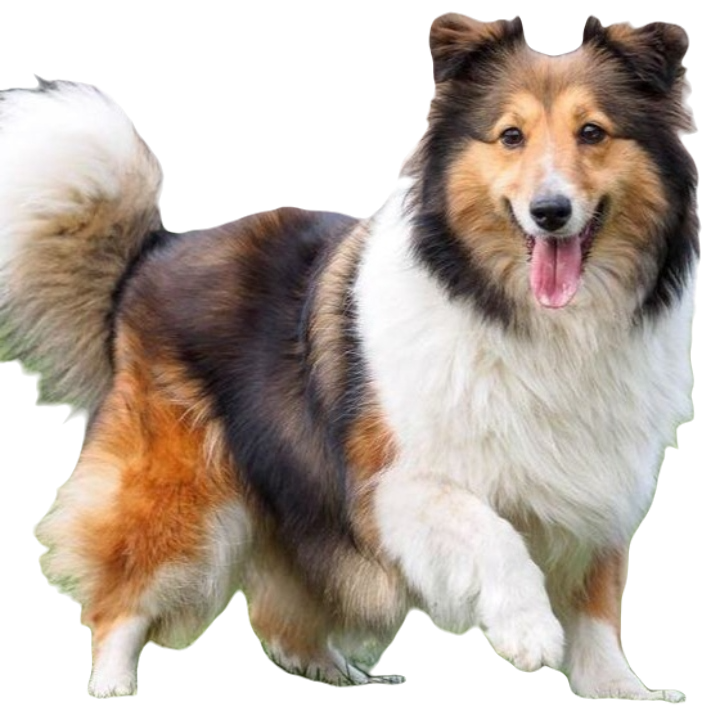Dog: (0, 14, 710, 704)
